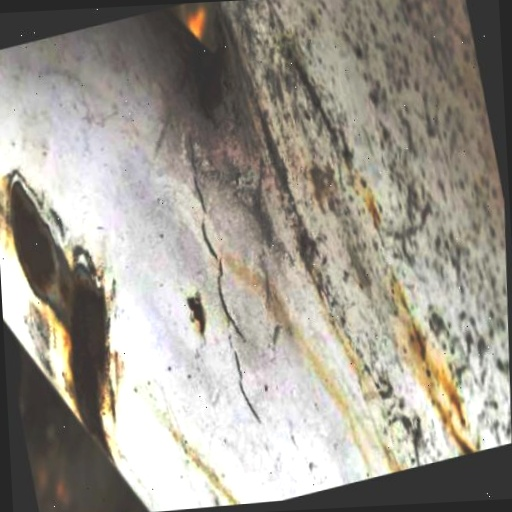crack: (144, 123, 283, 448)
